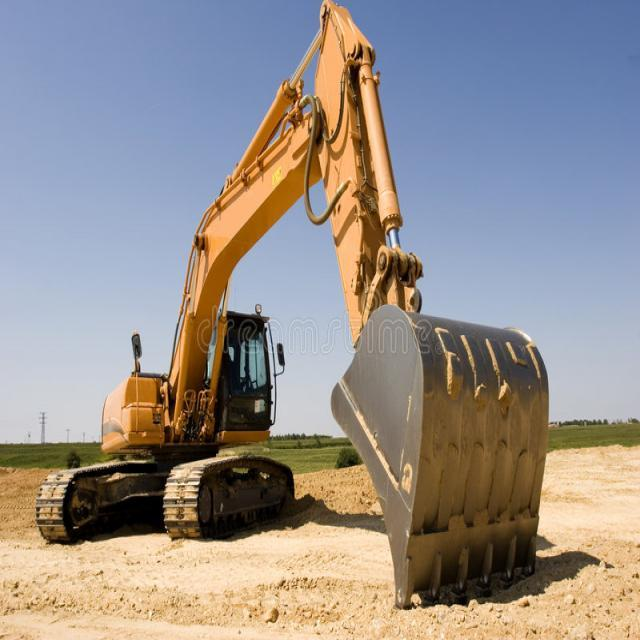C_E: (36, 2, 550, 610)
